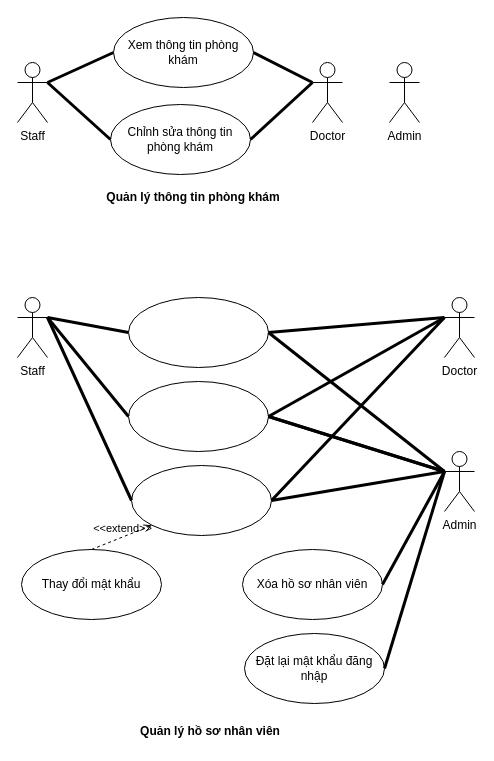
Image size: 494x761. Some labels were removed from this diagram. Each missing label, with the centre of its shape:
"Chỉnh sửa hồ sơ nhân viên" belongs at (x=201, y=500).
"Xem hồ sơ nhân viên" belongs at (x=198, y=416).
"Đăng ký nhân viên mới" belongs at (x=198, y=332).
